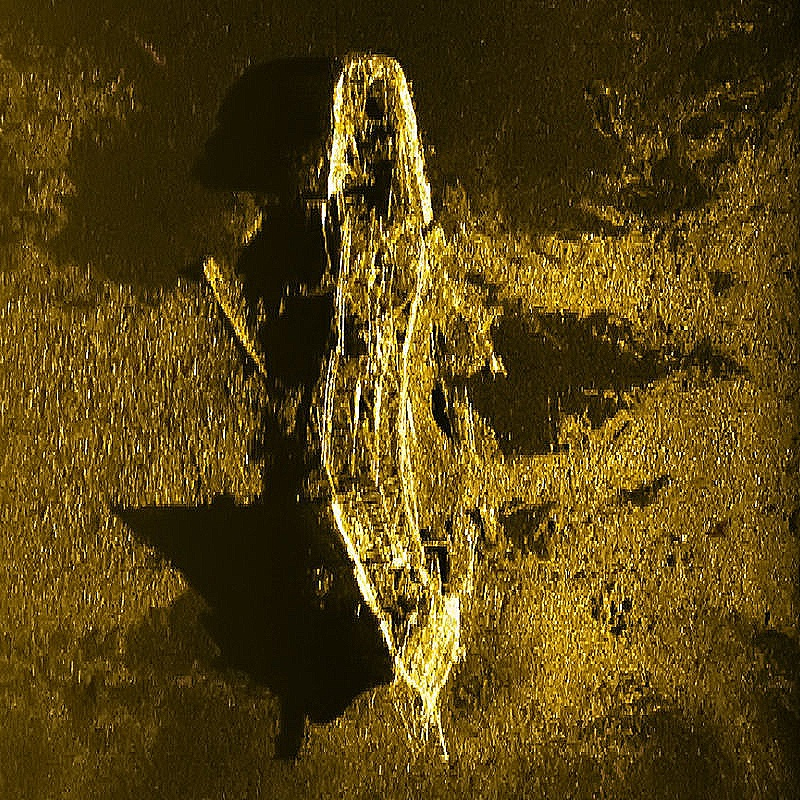ship: (312, 49, 511, 763)
